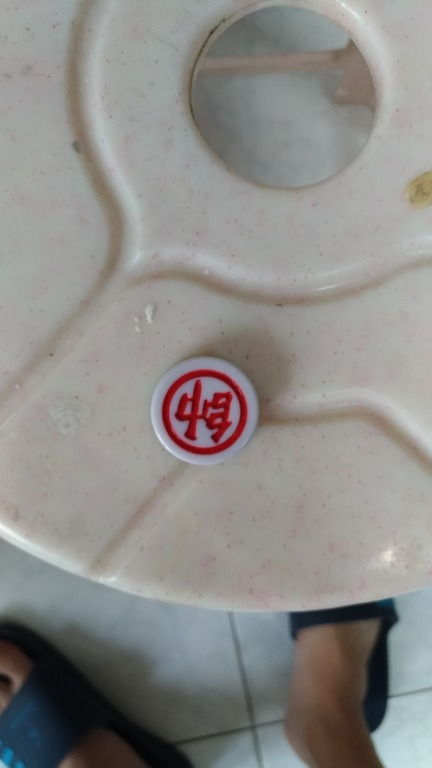r-king: (138, 351, 273, 472)
